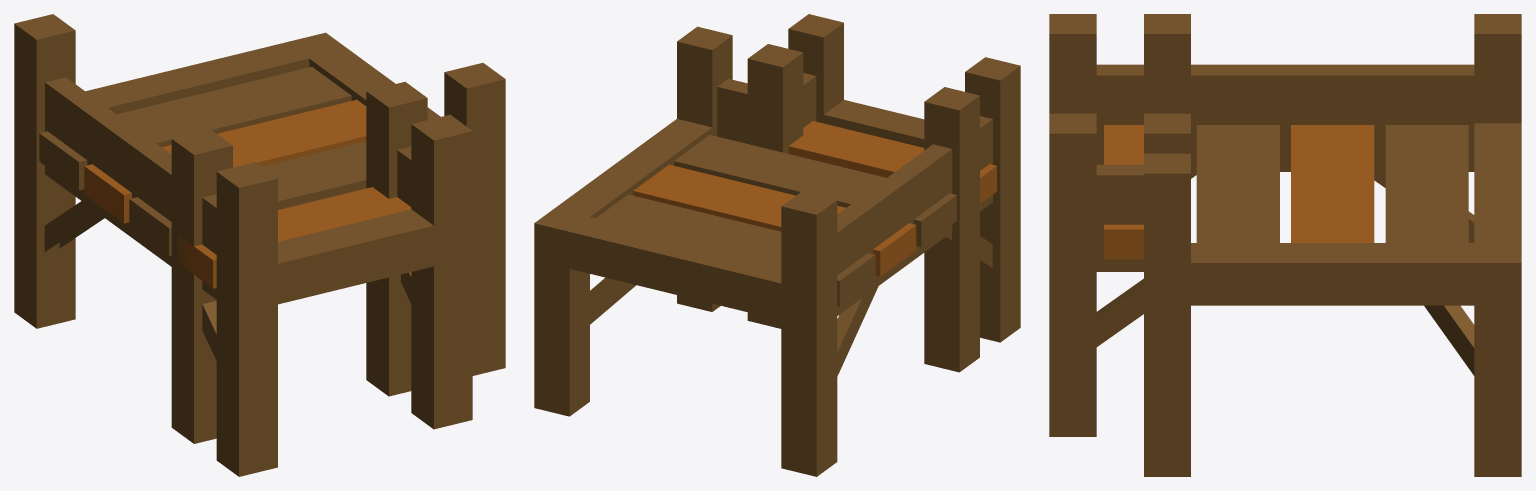
The model's file is ThreeWayQuarterFilled2.fbx.
3 renders of one model, left to right at view 1: azimuth 30°, elevation 25°; view 2: azimuth 150°, elevation 25°; view 3: azimuth 270°, elevation 25°, orthographic. The views are drawn at different scales.
Visible parts, largest first — view 1: Bridge - Three-way Quarter Filled 2; view 2: Bridge - Three-way Quarter Filled 2; view 3: Bridge - Three-way Quarter Filled 2.
Part boxes in pixels (<box>): Bridge - Three-way Quarter Filled 2: <box>14,14,505,476</box>; Bridge - Three-way Quarter Filled 2: <box>534,14,1020,476</box>; Bridge - Three-way Quarter Filled 2: <box>1049,14,1521,476</box>.
Size of the model in its own units: 80 by 70.89 by 100.
